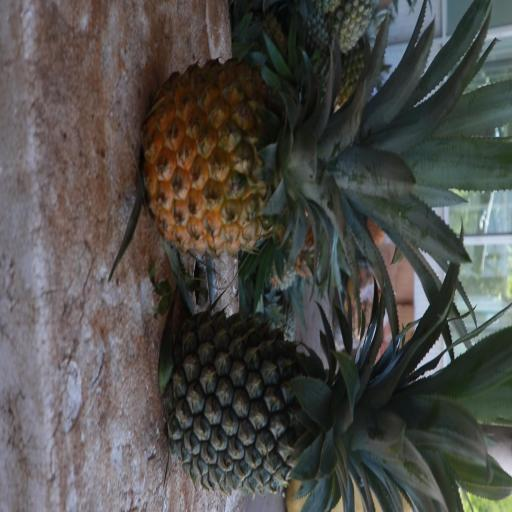Pineapple - v8 v1: (146, 66, 448, 245)
